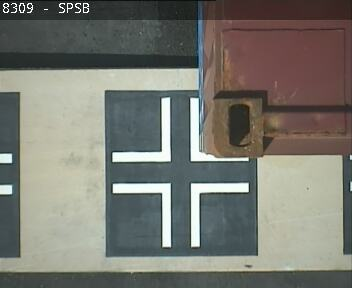groundmarker_1: (110, 99, 248, 163), (111, 182, 248, 246)
